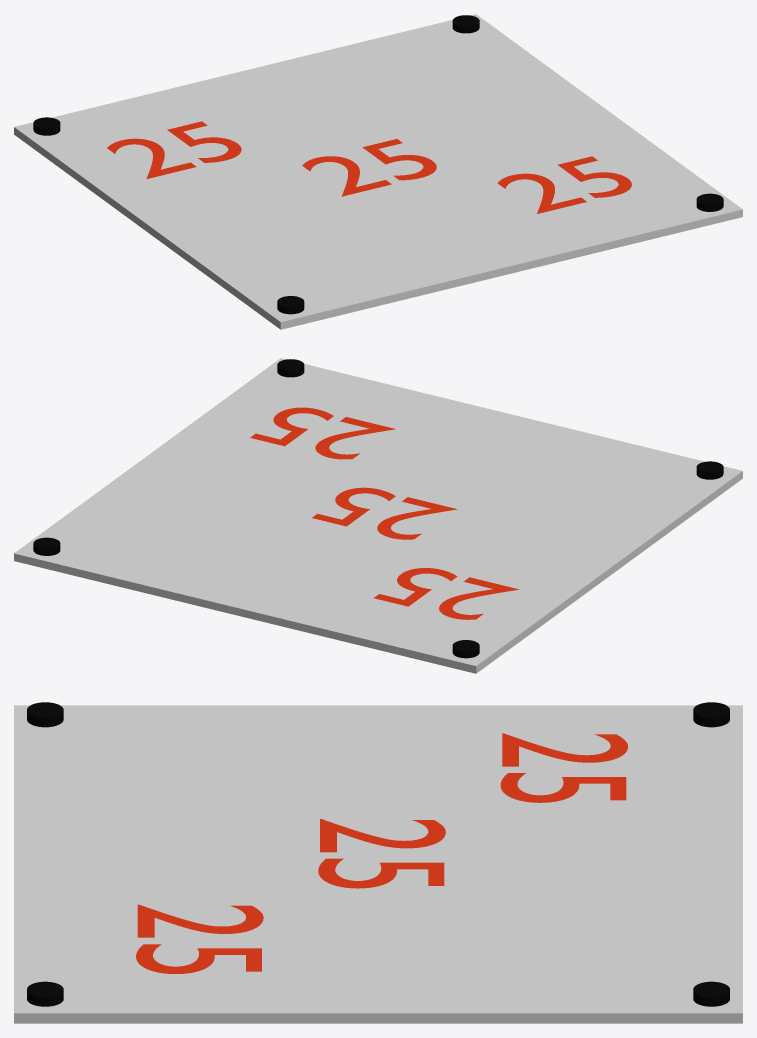
File: n25_hospital.fbx
3 views of the same model, one above another, from view 1: azimuth 30°, elevation 25°; view 2: azimuth 150°, elevation 25°; view 3: azimuth 270°, elevation 25° (orthographic). The views are drawn at different scales.
Parts seen in each view (by area): view 1: Plane, 25, Cylinder; view 2: Plane, 25, Cylinder; view 3: Plane, 25, Cylinder.
Part boxes in pixels (x1,y1,x2,y2): Plane: [14, 14, 742, 329]; 25: [107, 121, 631, 213]; Cylinder: [33, 15, 723, 314]; Plane: [14, 358, 742, 673]; 25: [250, 407, 518, 619]; Cylinder: [33, 359, 723, 658]; Plane: [14, 705, 742, 1023]; 25: [136, 733, 627, 973]; Cylinder: [27, 702, 729, 1006].
Bounding box in the file's own units: 200 × 6.02 × 200.
